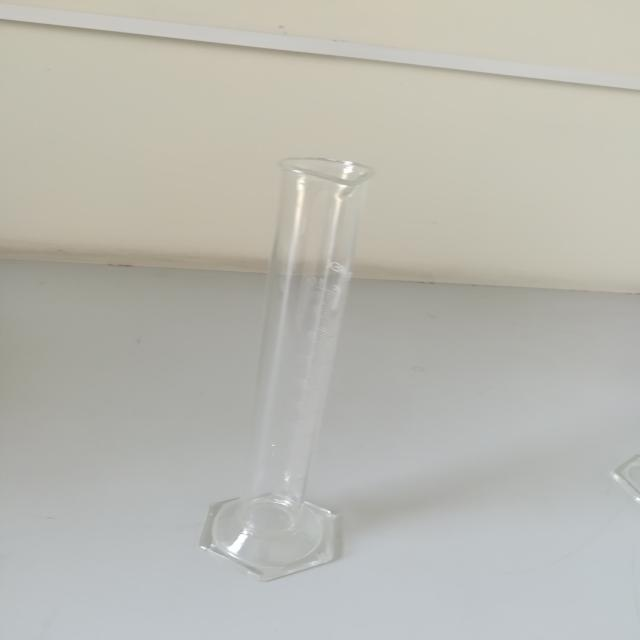Measuring_Cylinder: (177, 124, 409, 612)
